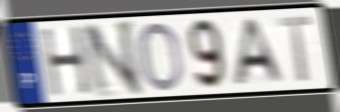9: (184, 16, 229, 92)
A: (231, 16, 287, 88)
H: (38, 23, 94, 99)
N: (80, 17, 145, 100)
O: (137, 19, 186, 94)
T: (277, 13, 315, 85)
